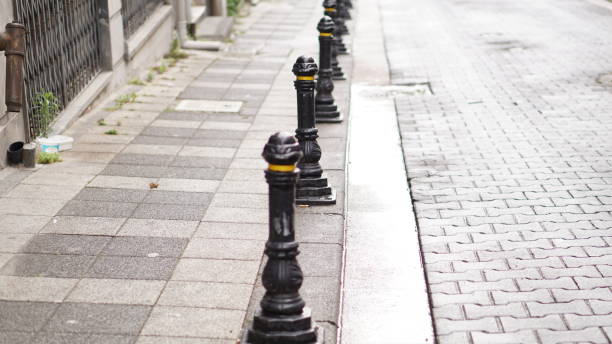bollard: (247, 129, 317, 342)
